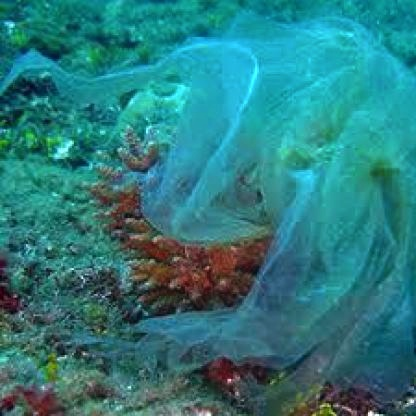pbag: (7, 6, 416, 403)
